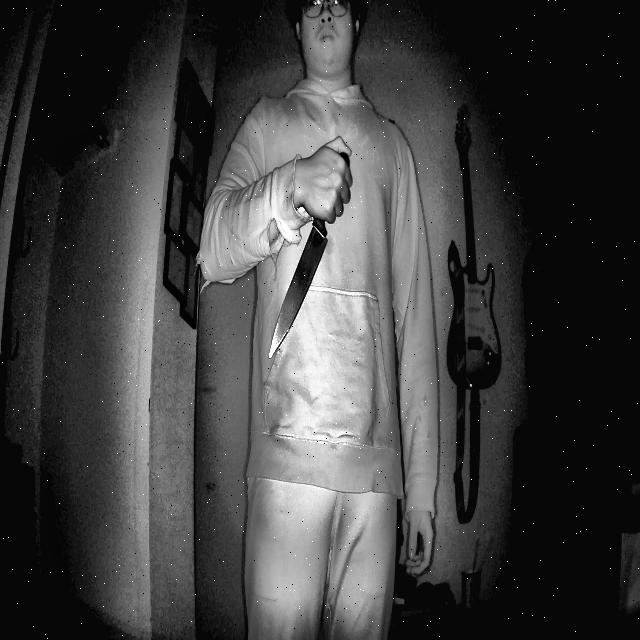knife: (262, 122, 357, 382)
